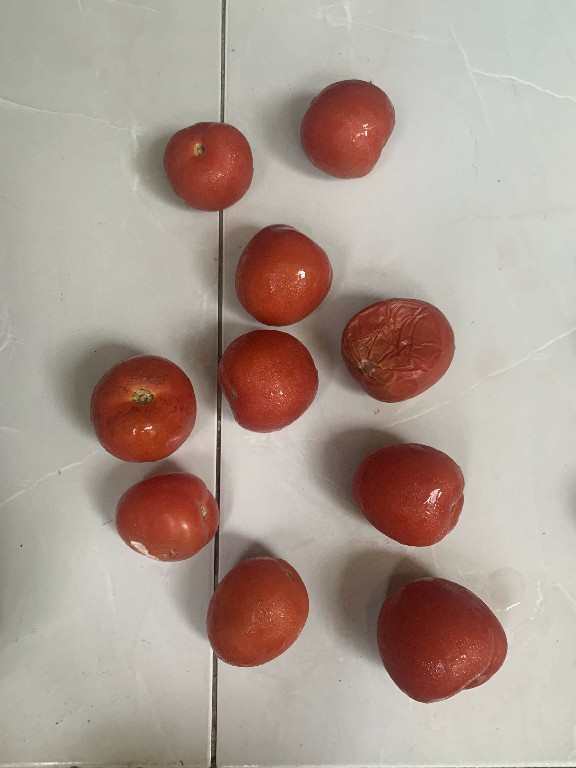NG: (330, 292, 461, 409), (84, 347, 202, 467), (106, 467, 227, 567)
OK: (369, 570, 511, 710), (196, 547, 314, 677), (350, 429, 472, 552), (206, 321, 324, 442), (294, 72, 408, 192), (220, 215, 335, 330), (156, 113, 262, 217)
